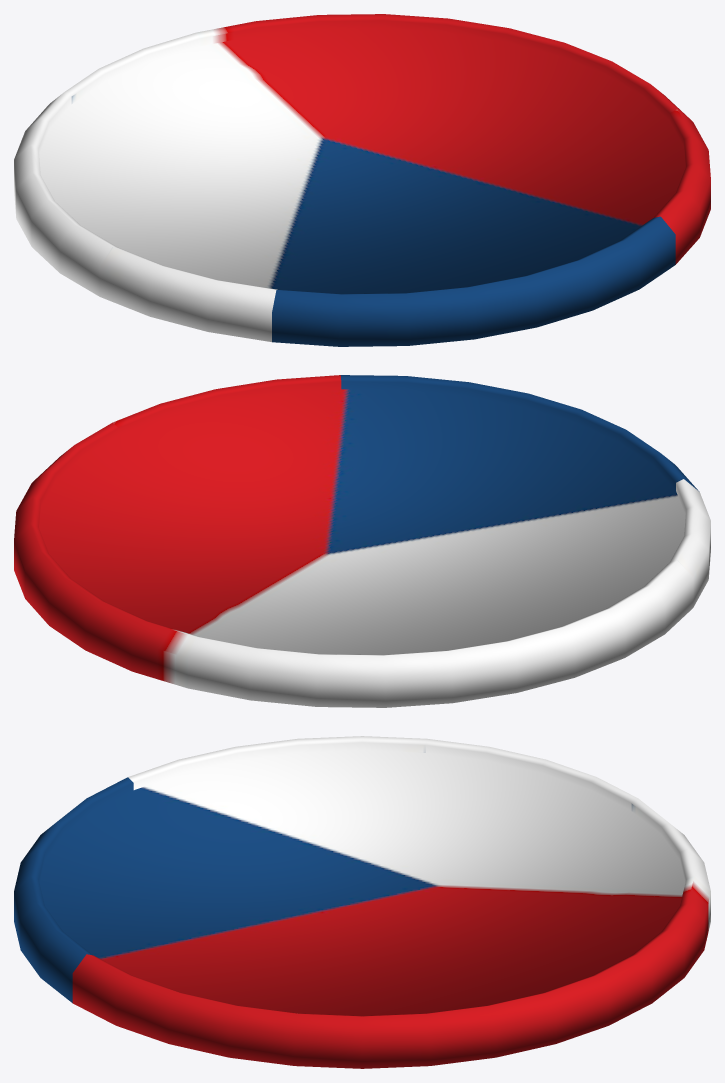
The model's file is CzechFlagRound.fbx.
3 renders of one model, top to bottom at view 1: azimuth 30°, elevation 25°; view 2: azimuth 150°, elevation 25°; view 3: azimuth 270°, elevation 25°, orthographic.
Parts seen in each view (by area): view 1: Circle.001; view 2: Circle.001; view 3: Circle.001.
Part boxes in pixels (x1,y1,x2,y2): Circle.001: [14, 14, 710, 346]; Circle.001: [14, 375, 710, 707]; Circle.001: [14, 736, 710, 1068].
Bounding box in the file's own units: 200 × 14.34 × 200.
1 material, 1 textured.
